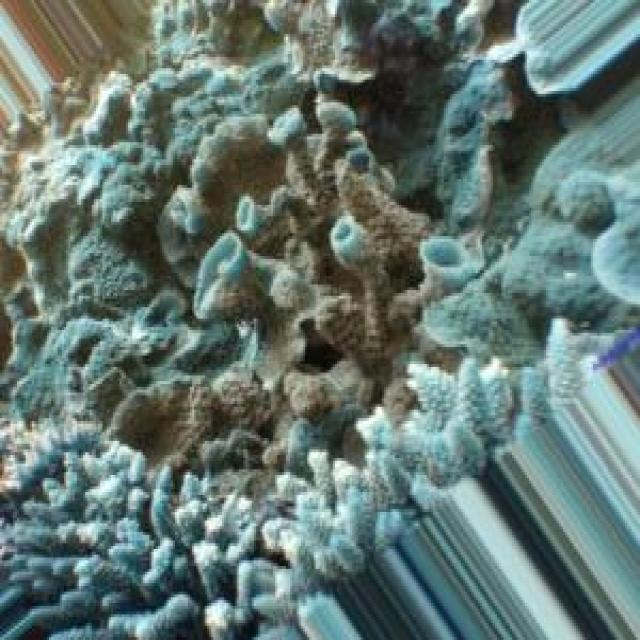Healthy: (14, 1, 575, 490), (1, 300, 536, 640)
